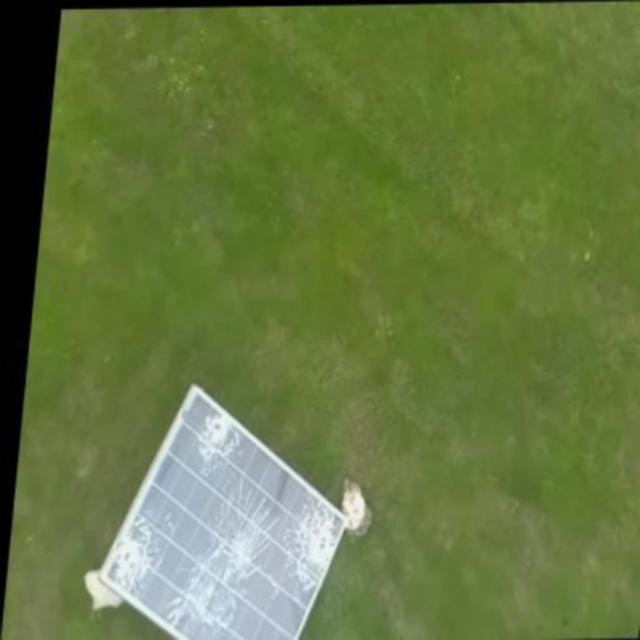cracked: (100, 385, 354, 637)
